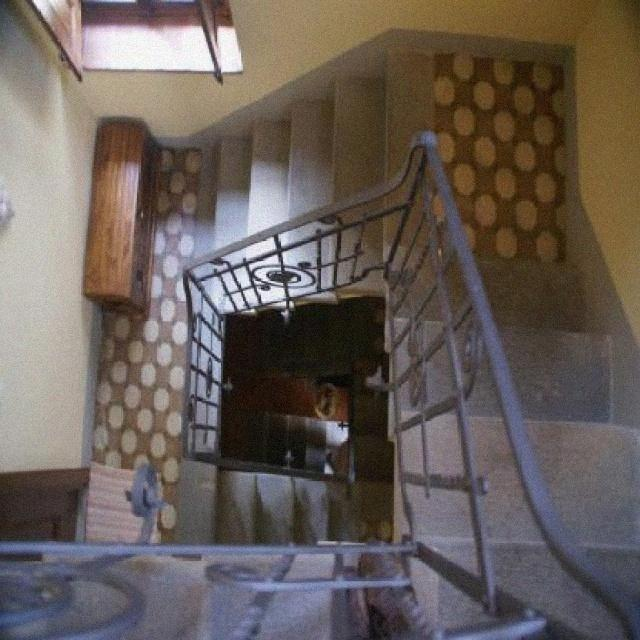stair: (186, 24, 640, 640)
